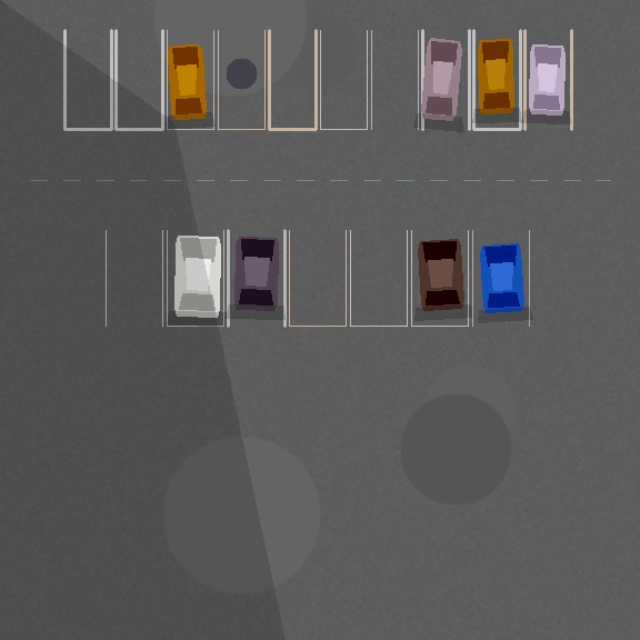space-empty: (289, 230, 346, 326), (350, 230, 407, 326), (106, 230, 162, 326), (64, 30, 111, 129), (269, 30, 316, 129), (320, 30, 367, 129), (371, 30, 418, 129), (116, 30, 162, 129), (218, 30, 264, 129)
space-occupied: (411, 230, 468, 326), (472, 230, 529, 326), (167, 230, 223, 326), (228, 230, 284, 326), (422, 30, 469, 129), (473, 30, 520, 129), (524, 30, 571, 129), (167, 30, 213, 129)
